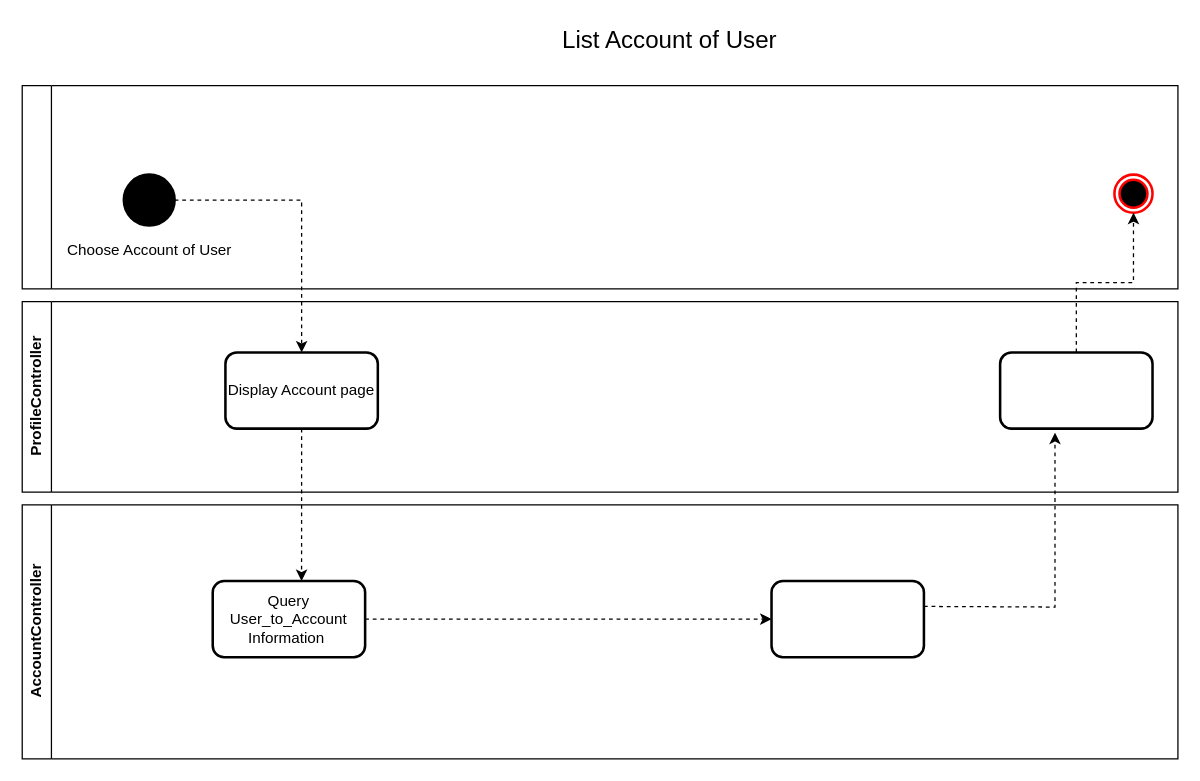
Image size: 1200x781. Some labels were removed from this diagram. Each missing label, with the box of its shape:
Admin: (21, 84, 1178, 289)
Display Account List: (998, 351, 1153, 429)
Send back Account of User: (770, 579, 925, 658)
